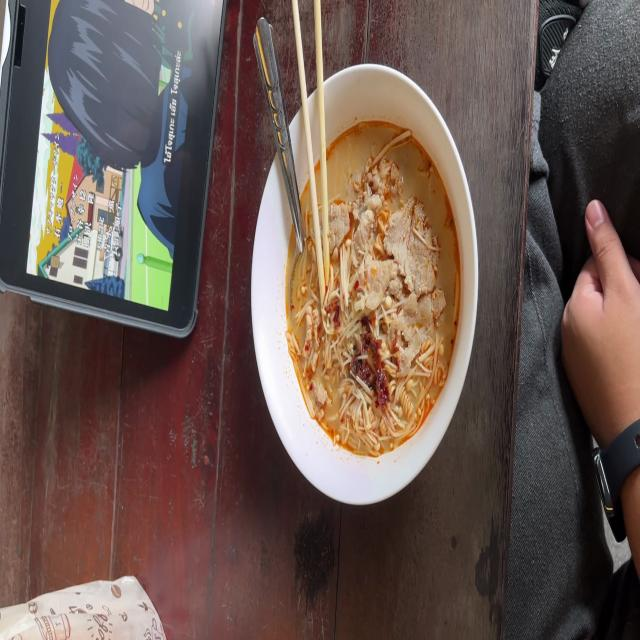noodle: (268, 94, 477, 497)
